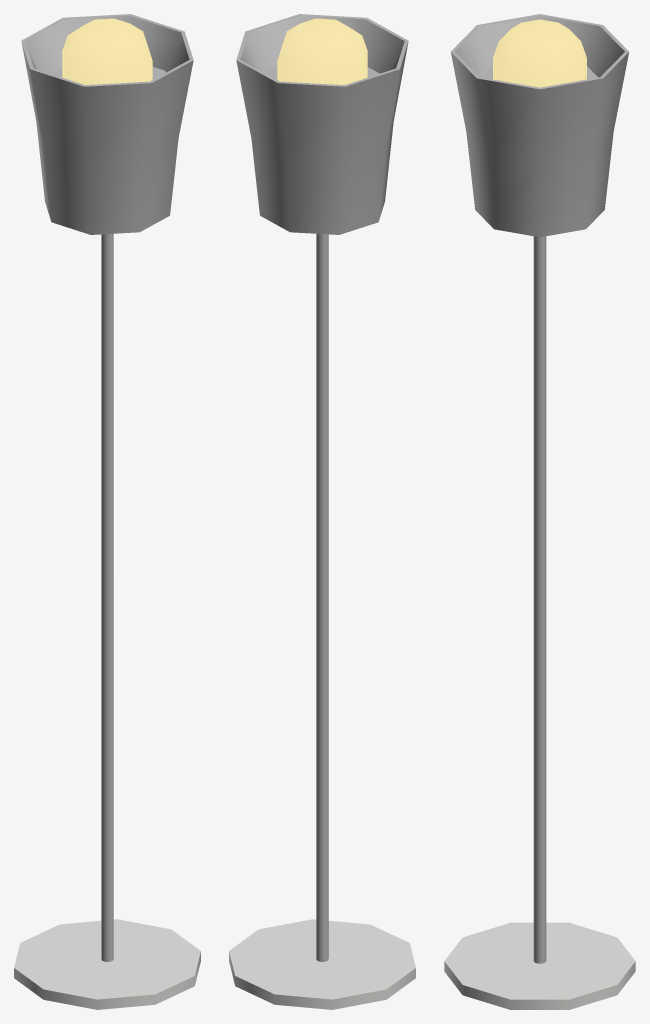
Rendered from floor_lamp.glb.
3 views of the same model, side by side, from view 1: azimuth 30°, elevation 25°; view 2: azimuth 150°, elevation 25°; view 3: azimuth 270°, elevation 25° (orthographic).
Visible parts, largest first — view 1: Light_Floor1; view 2: Light_Floor1; view 3: Light_Floor1.
Boxes of the visible parts, left/top/right/bottom form: Light_Floor1: left=14, top=14, right=200, bottom=1009; Light_Floor1: left=229, top=14, right=415, bottom=1009; Light_Floor1: left=444, top=14, right=635, bottom=1009.
Bounding box in the file's own units: 0.2809 × 1.6 × 0.2953.
